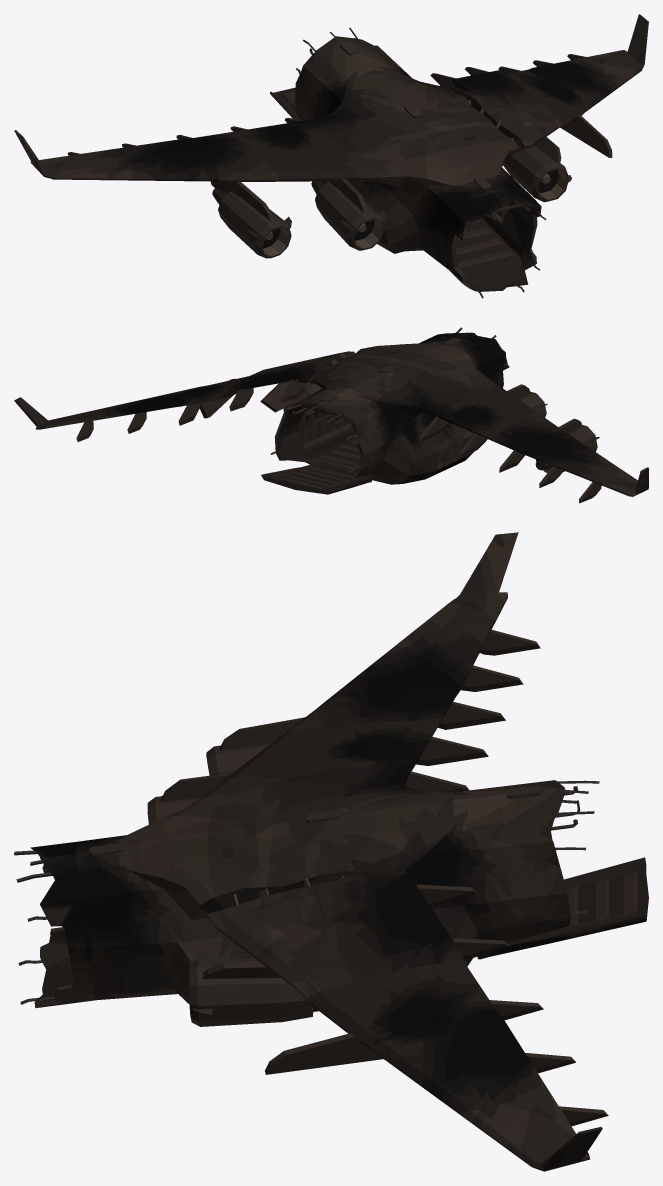
Rendered from SM_Veh_TransportPlane_Destroyed_Fuselage_01.fbx.
3 views of the same model, one above another, from view 1: azimuth 30°, elevation 25°; view 2: azimuth 150°, elevation 25°; view 3: azimuth 270°, elevation 25° (orthographic). The views are drawn at different scales.
Visible parts, largest first — view 1: SM_Veh_TransportPlane_Destroyed_Fuselage_01; view 2: SM_Veh_TransportPlane_Destroyed_Fuselage_01; view 3: SM_Veh_TransportPlane_Destroyed_Fuselage_01.
Part boxes in pixels (<box>): SM_Veh_TransportPlane_Destroyed_Fuselage_01: <box>14,14,648,298</box>; SM_Veh_TransportPlane_Destroyed_Fuselage_01: <box>14,327,648,503</box>; SM_Veh_TransportPlane_Destroyed_Fuselage_01: <box>14,532,648,1171</box>.
Bounding box in the file's own units: 4569 × 884 × 2455.
Materials: 1 (1 with a texture image).
